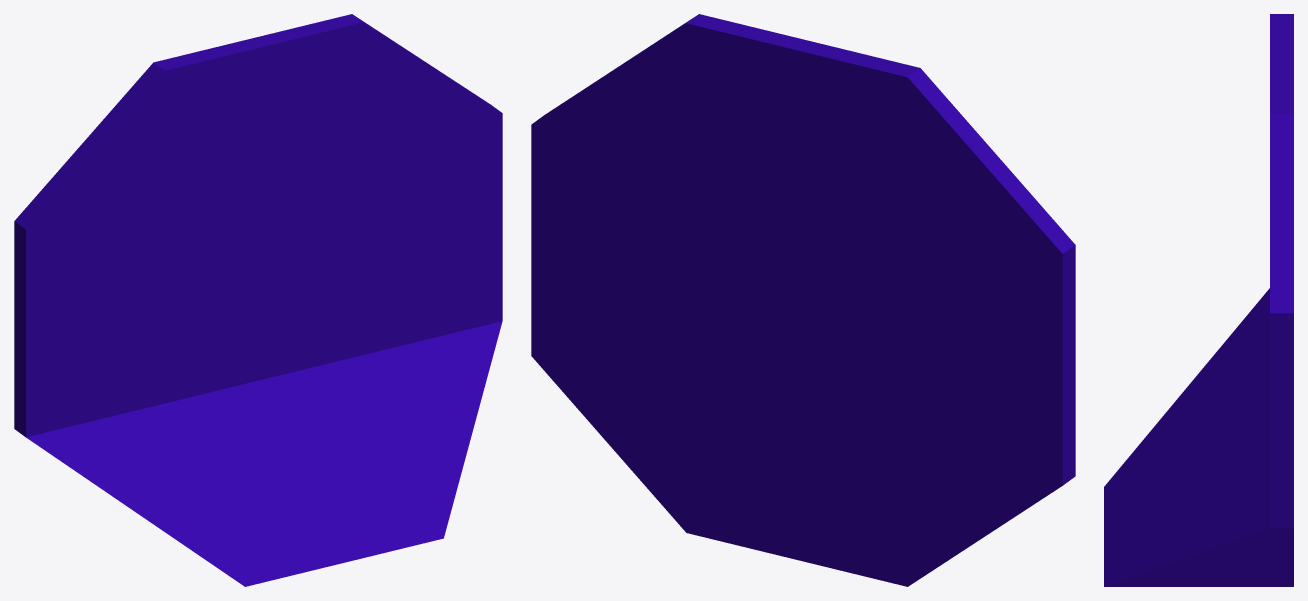
Rendered from Door.fbx.
3 renders of one model, left to right at view 1: azimuth 30°, elevation 25°; view 2: azimuth 150°, elevation 25°; view 3: azimuth 270°, elevation 25°, orthographic. The views are drawn at different scales.
Parts seen in each view (by area): view 1: Door; view 2: Door; view 3: Door.
Part boxes in pixels (x1,y1,x2,y2): Door: (14,14,502,586); Door: (531,14,1075,586); Door: (1104,14,1293,586).
Bounding box in the file's own units: 24 × 22 × 8.
